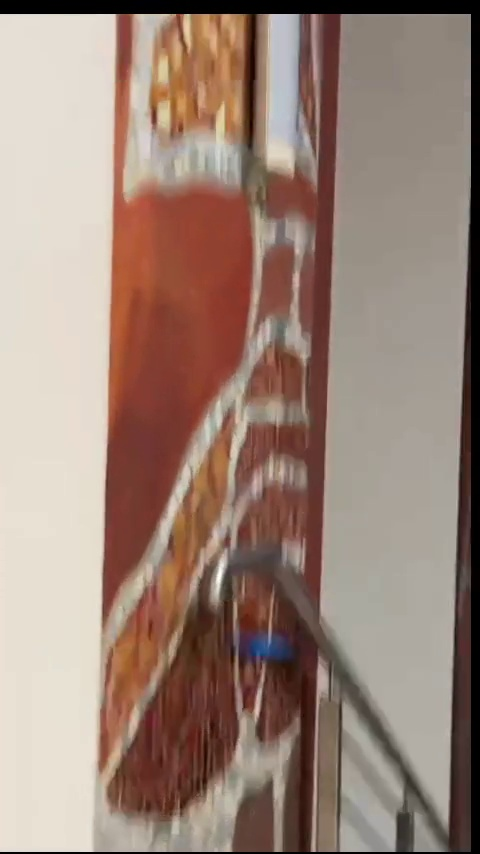drone: (225, 637, 301, 675)
